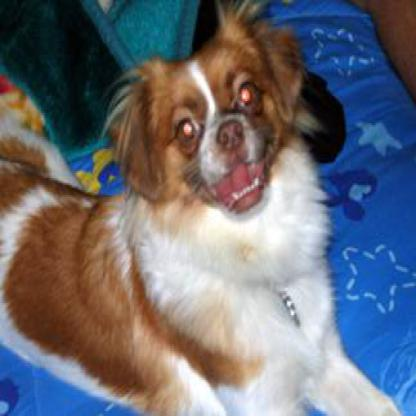dog: (84, 20, 336, 334)
